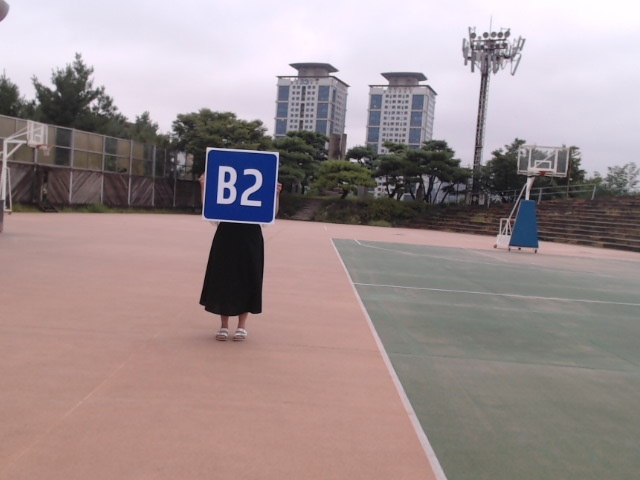delivery_b2: (203, 149, 278, 224)
